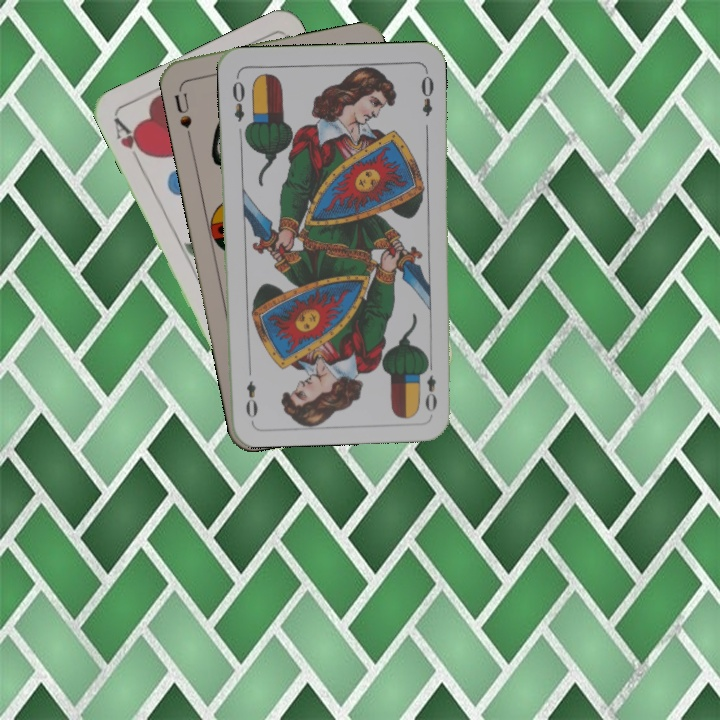EO: (419, 356, 439, 415), (228, 72, 247, 124)
HA: (110, 114, 150, 169)
SU: (170, 83, 195, 142)
